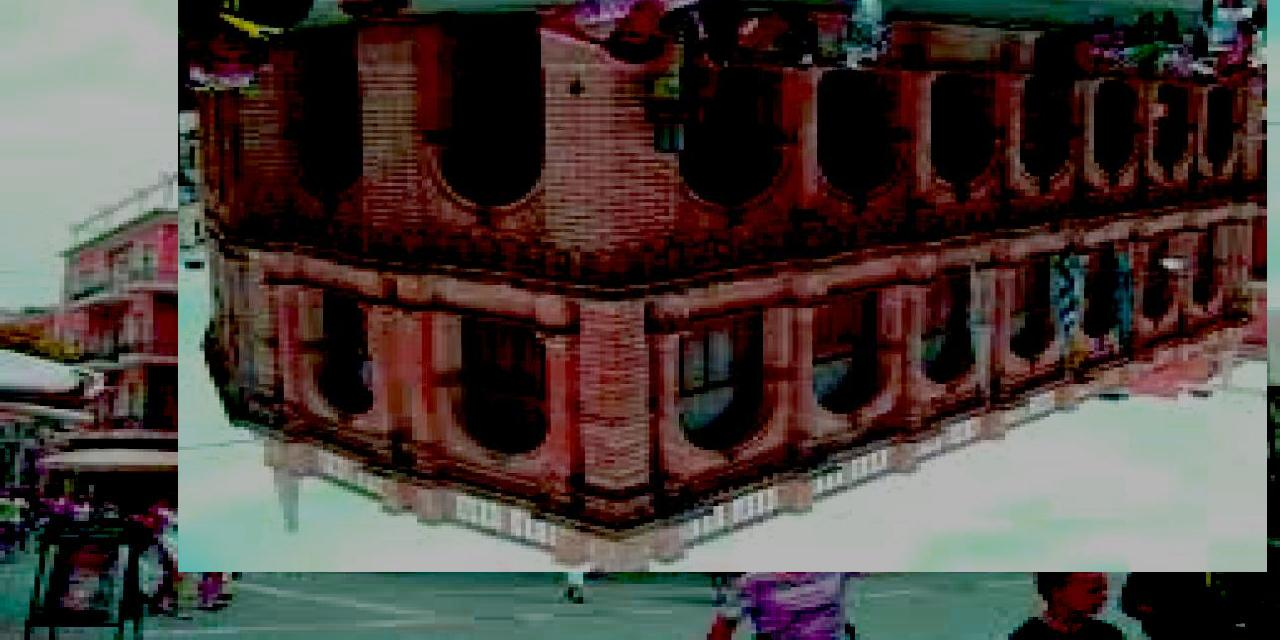Loggia: (179, 1, 1268, 573)
